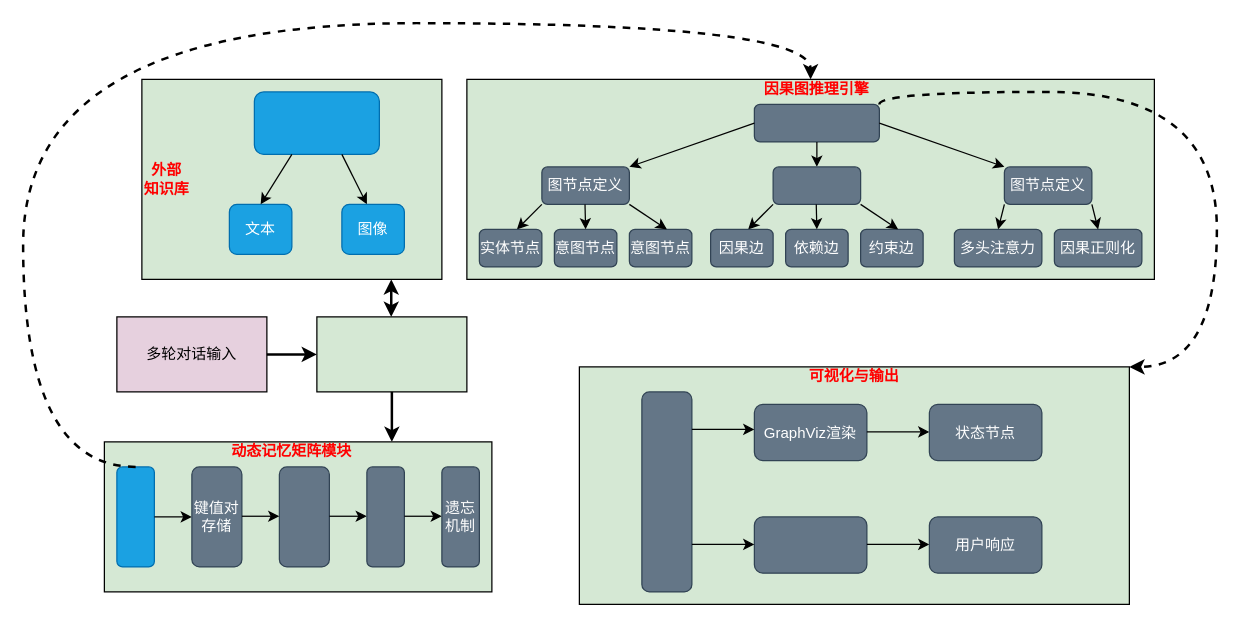
This 1239x626 diagram has some shape labels left out. The shapes that lost their labels are listed below. From the top down, each one's centre as x and y in pixels, then its label:
At (316,122): "多模态数据".
At (816,122): "层级因果图构建".
At (816,185): "图边定义".
At (391,354): "轻量化检索器".
At (666,491): "结构化场景图生成".
At (135,516): "动态记忆矩阵".
At (303,516): "实体/意图/约束/向量".
At (385,516): "增量更新".
At (810,544): "响应生成 可视化".
